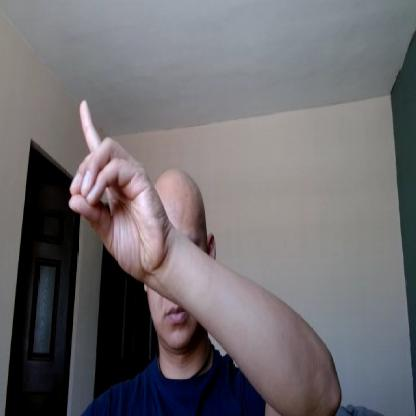D: (68, 102, 165, 274)
